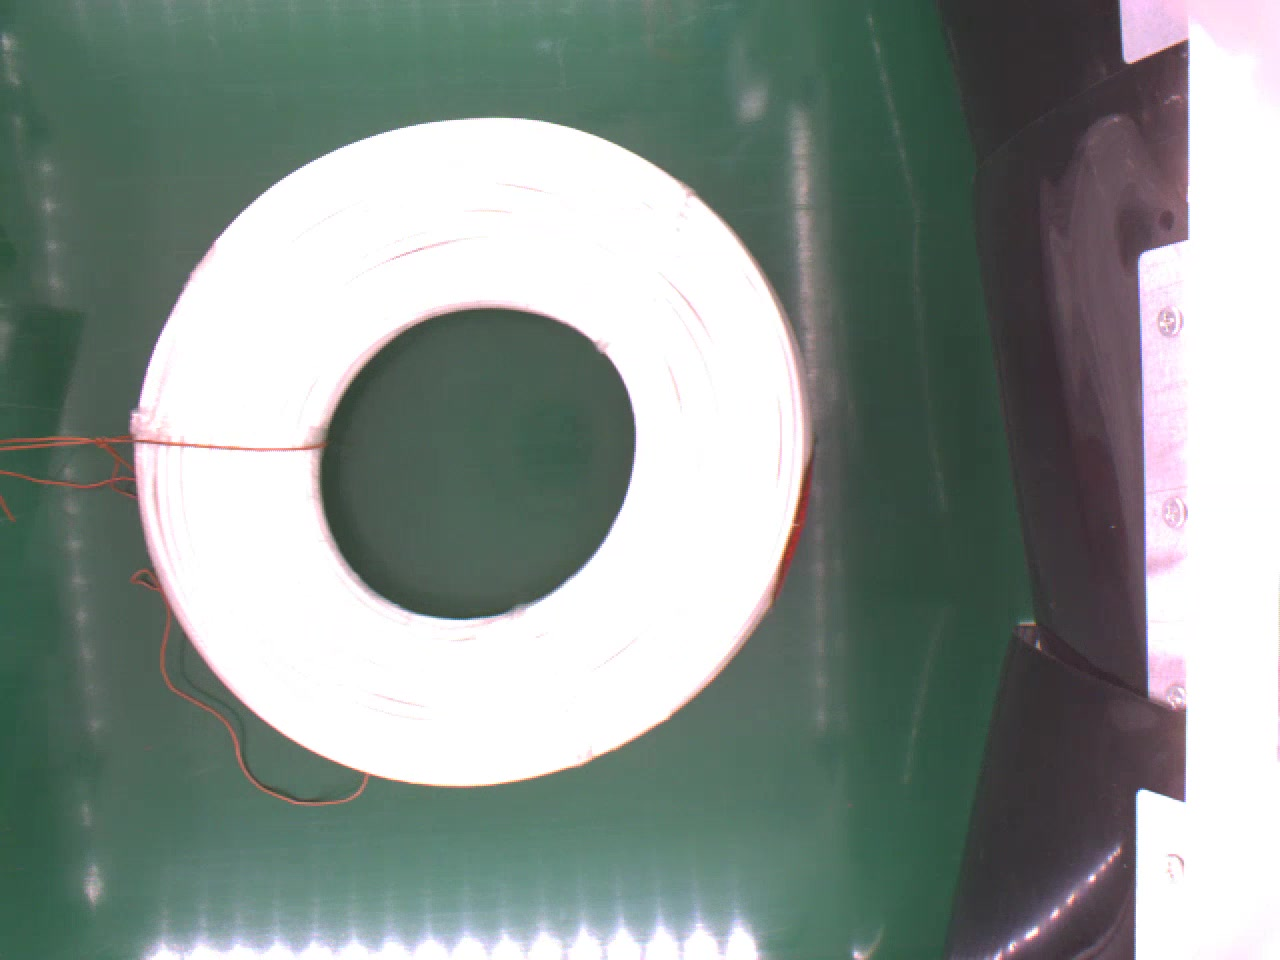white: (127, 114, 815, 786)
